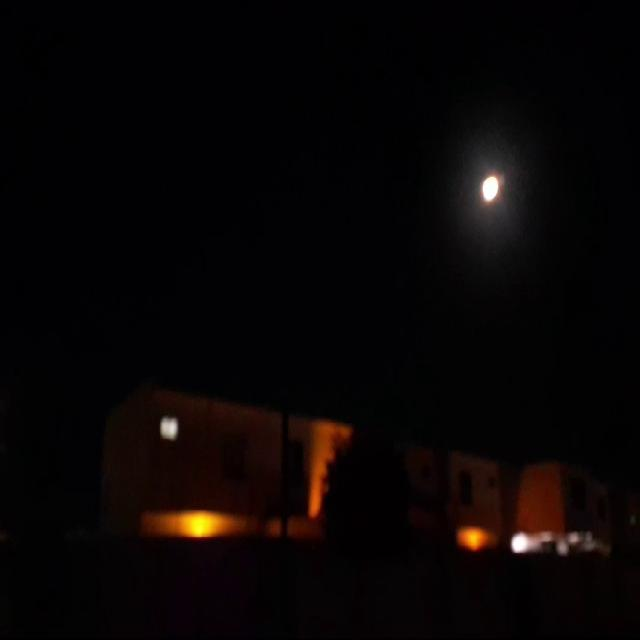moon: (465, 181, 488, 215)
